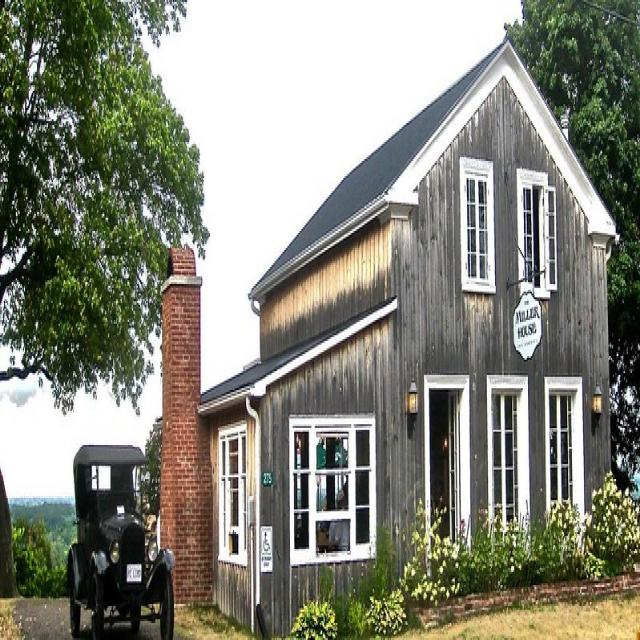Normal_building: (159, 39, 623, 630)
